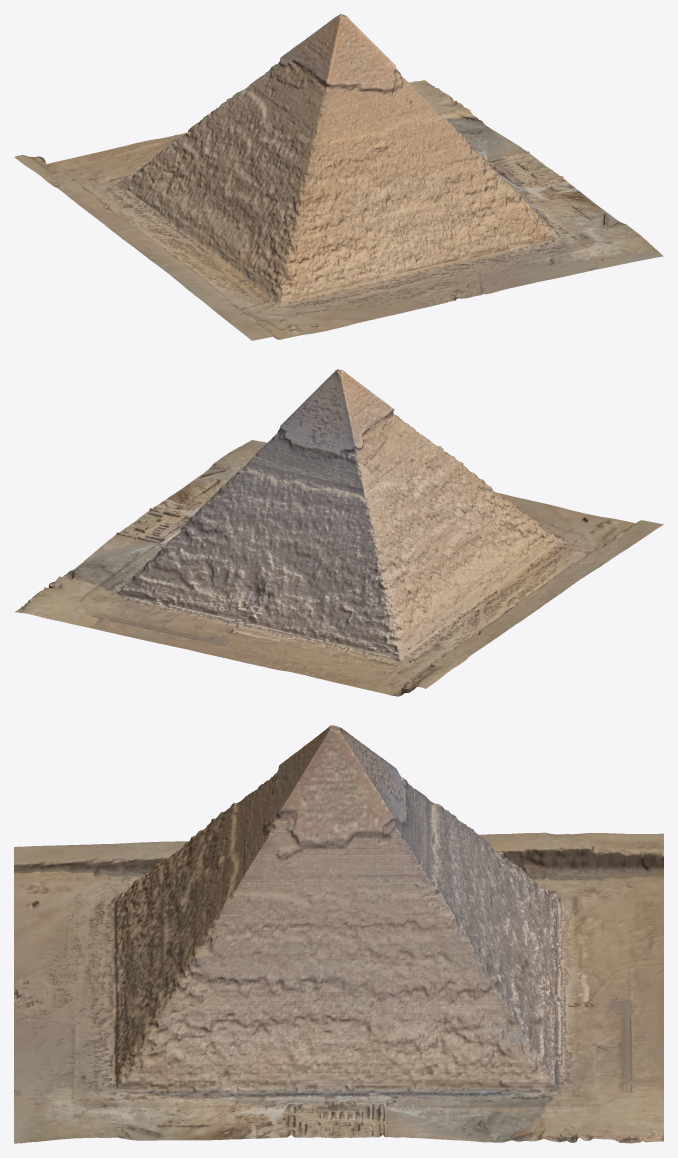
3 views of the same model, one above another, from view 1: azimuth 30°, elevation 25°; view 2: azimuth 150°, elevation 25°; view 3: azimuth 270°, elevation 25° (orthographic). The views are drawn at different scales.
Visible parts, largest first — view 1: EGY_001_M2_Kheops; view 2: EGY_001_M2_Kheops; view 3: EGY_001_M2_Kheops.
Part boxes in pixels (x1,y1,x2,y2): EGY_001_M2_Kheops: (14, 14, 663, 340); EGY_001_M2_Kheops: (14, 369, 663, 696); EGY_001_M2_Kheops: (14, 725, 663, 1143).
Bounding box in the file's own units: 306 × 146 × 306.
Materials: 1 (1 with a texture image).
